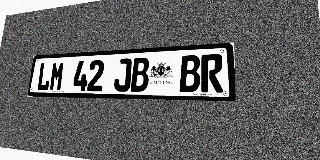2: (87, 60, 105, 91)
4: (72, 60, 90, 91)
B: (179, 55, 200, 92), (130, 57, 150, 92)
J: (113, 58, 132, 92)
L: (36, 62, 52, 91)
M: (49, 61, 65, 91)
R: (201, 54, 223, 92)
